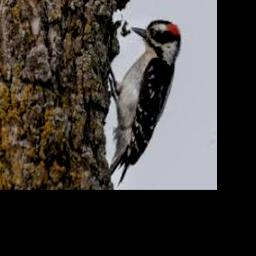Woodpecker: (108, 20, 182, 187)
